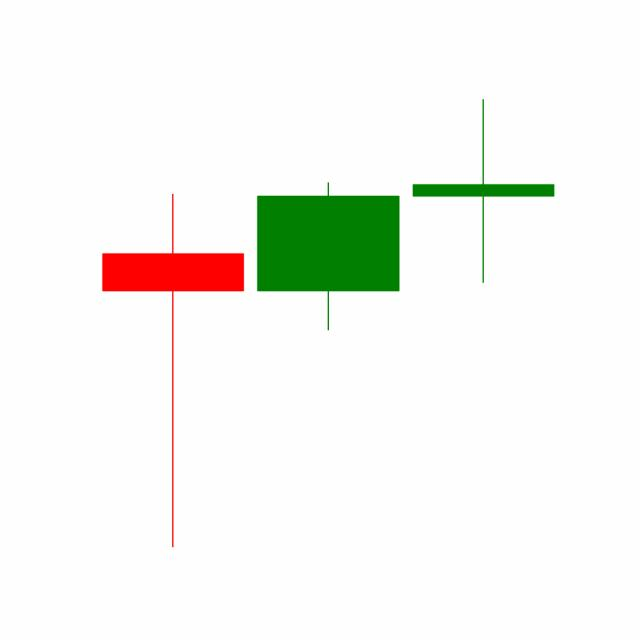Spinning Top: (405, 96, 561, 285)
